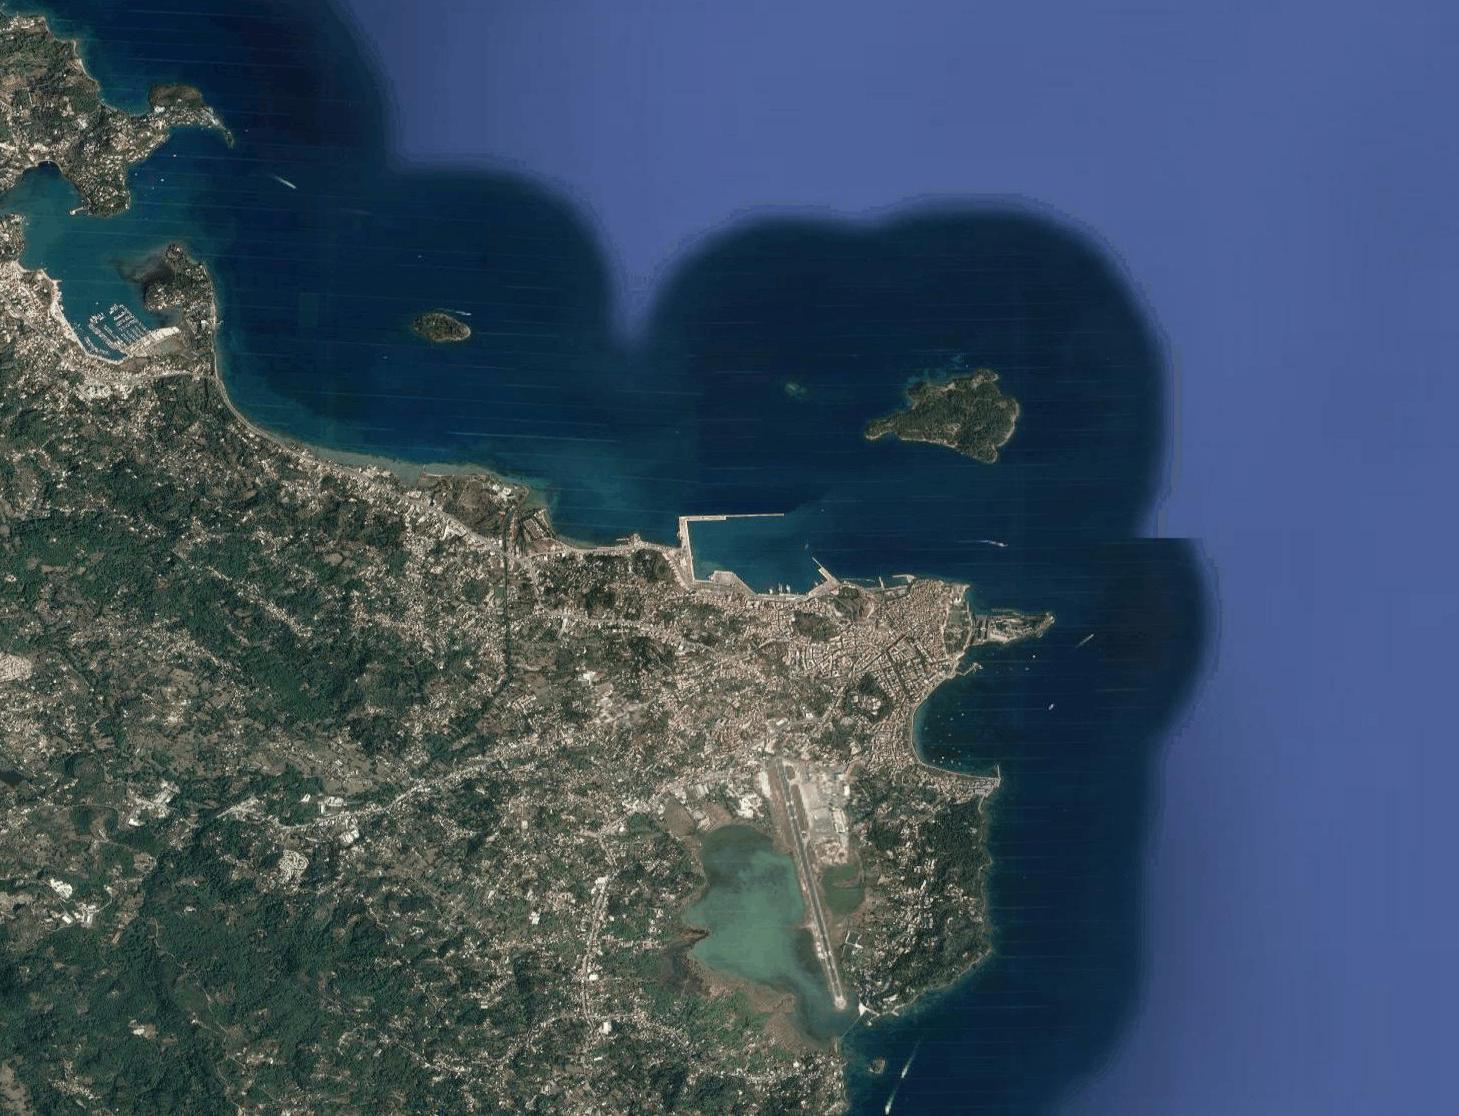harbor: (664, 496, 830, 606), (59, 299, 182, 365)
